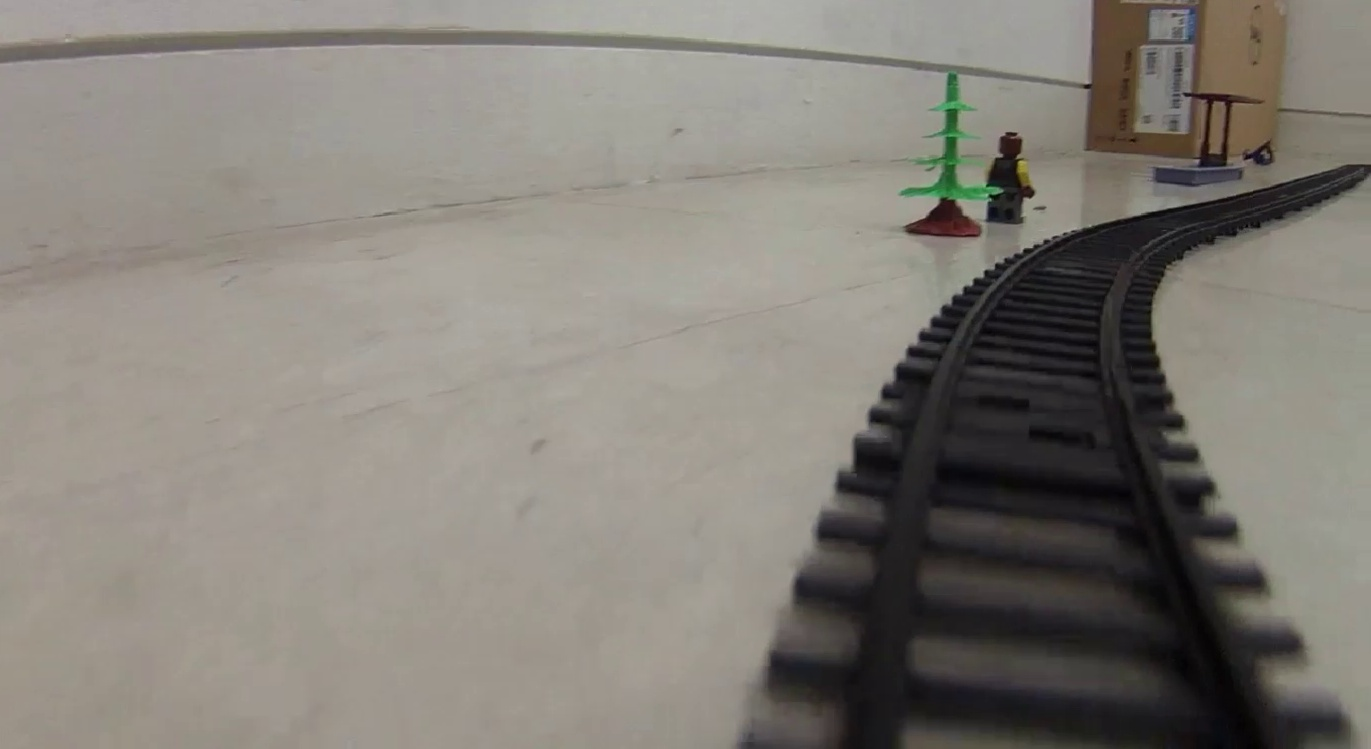people: (983, 128, 1035, 221)
tree: (900, 68, 988, 236)
